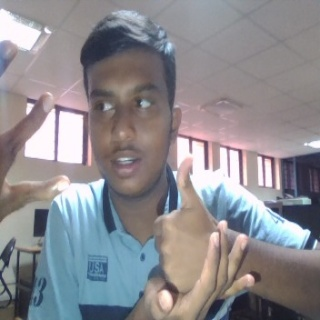Face: (75, 11, 182, 202)
Help: (143, 155, 256, 320)
